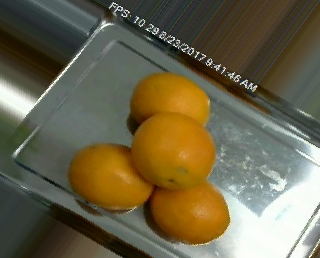Orange: (131, 111, 216, 189), (69, 142, 155, 209), (149, 175, 231, 244), (129, 71, 211, 130)
